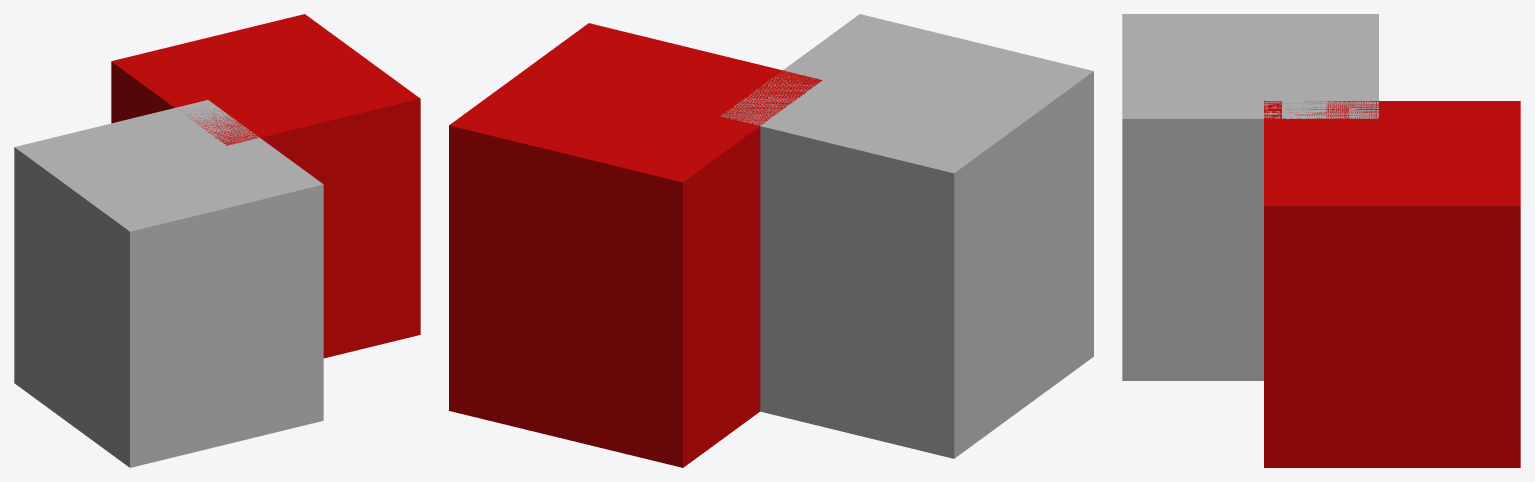
3 views of the same model, side by side, from view 1: azimuth 30°, elevation 25°; view 2: azimuth 150°, elevation 25°; view 3: azimuth 270°, elevation 25° (orthographic). The views are drawn at different scales.
Visible parts, largest first — view 1: Box002, Box003; view 2: Box002, Box003; view 3: Box003, Box002.
Boxes of the visible parts, x1,y1,x2,y2 form: Box002: (14, 100, 323, 467); Box003: (111, 14, 420, 358); Box002: (720, 14, 1093, 458); Box003: (449, 23, 822, 467); Box003: (1264, 101, 1520, 467); Box002: (1122, 14, 1378, 380).
Bounding box in the file's own units: 0.93 × 0.5926 × 0.8159.
